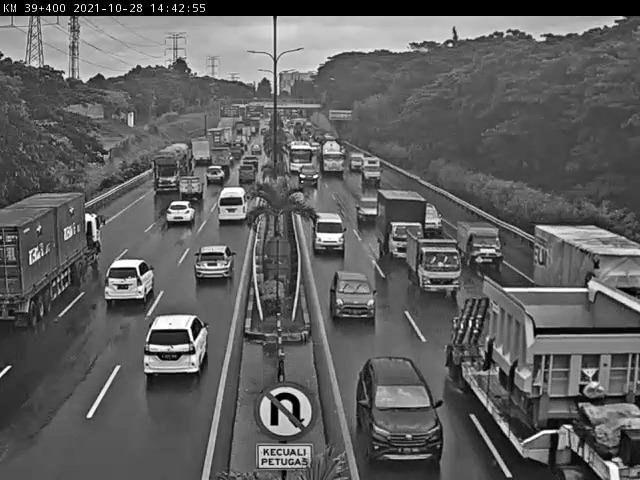big truck: (0, 195, 105, 326)
car: (355, 357, 445, 472), (145, 314, 209, 378), (330, 269, 380, 325), (106, 256, 155, 303), (193, 245, 237, 282), (313, 210, 348, 256), (218, 187, 251, 222), (356, 196, 390, 226), (166, 200, 196, 226)
small truck: (404, 227, 466, 296), (375, 187, 430, 262), (457, 221, 506, 269)
